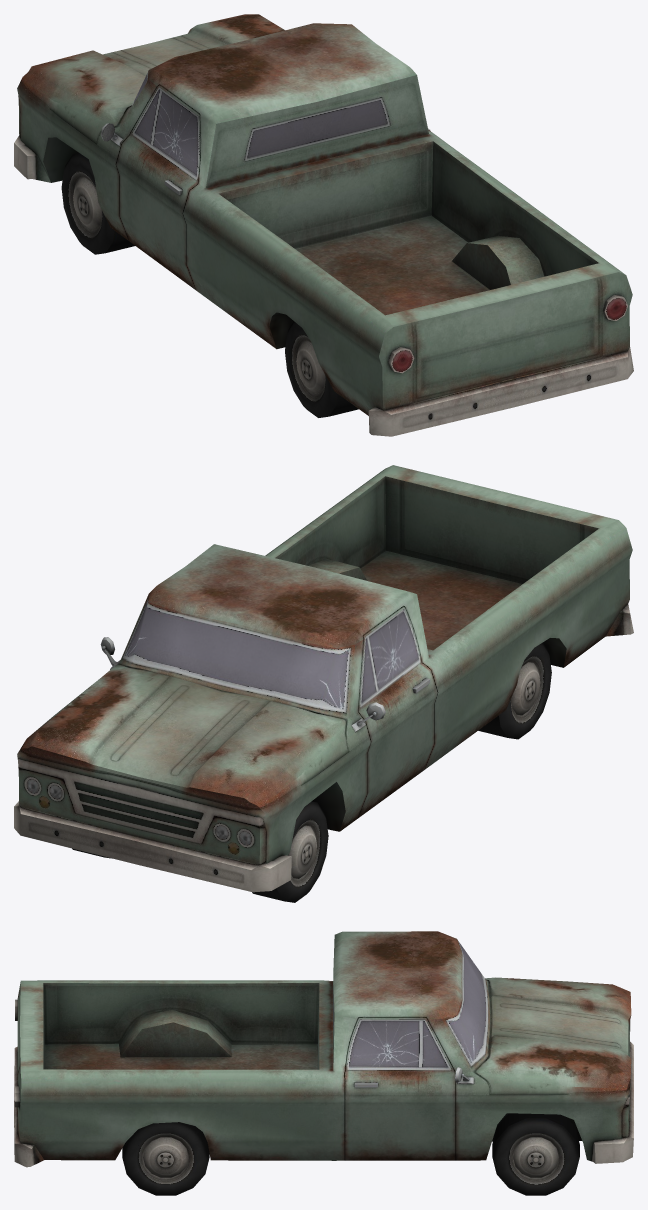
File: carcollada.dae
The picture shows the model from 3 angles, top to bottom: view 1: azimuth 30°, elevation 25°; view 2: azimuth 150°, elevation 25°; view 3: azimuth 270°, elevation 25°; orthographic projection. The views are drawn at different scales.
Parts seen in each view (by area): view 1: Object001; view 2: Object001; view 3: Object001.
Part boxes in pixels (bbox=[...]): Object001: bbox=[14, 14, 633, 436]; Object001: bbox=[14, 465, 633, 902]; Object001: bbox=[14, 931, 633, 1195].
Bounding box in the file's own units: 87.65 × 65.06 × 200.
